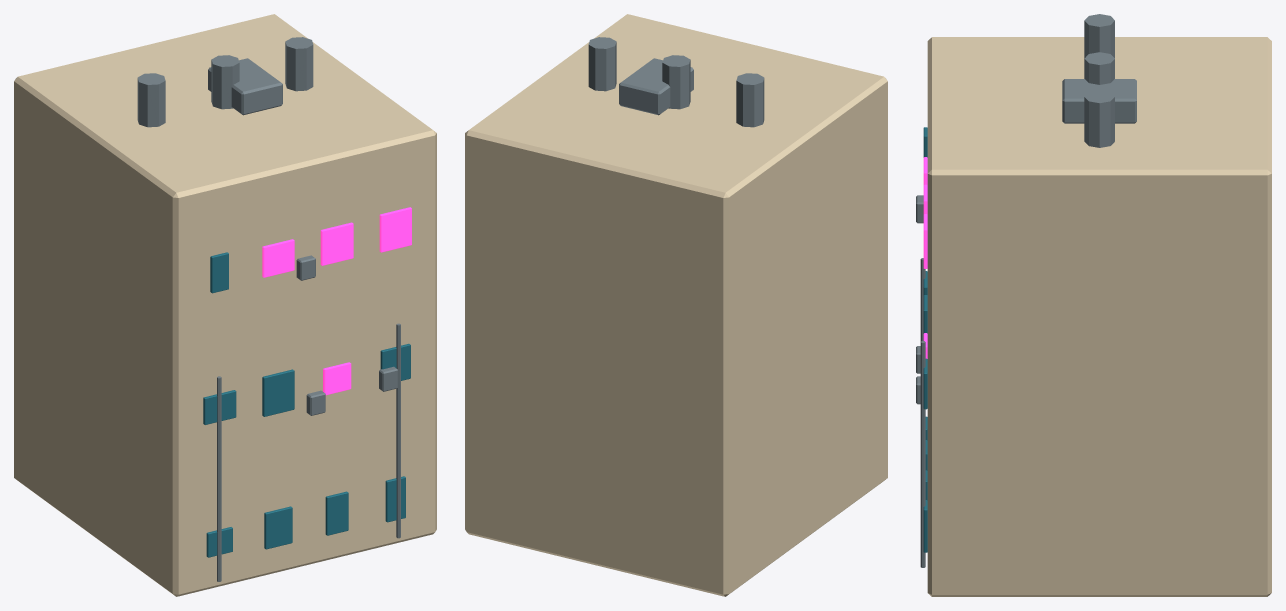
Rendered from building_001_seed100.glb.
3 renders of one model, left to right at view 1: azimuth 30°, elevation 25°; view 2: azimuth 150°, elevation 25°; view 3: azimuth 270°, elevation 25°, orthographic. The views are drawn at different scales.
Parts seen in each view (by area): view 1: building_001_seed100; view 2: building_001_seed100; view 3: building_001_seed100.
Part boxes in pixels (left/top/right/bottom): building_001_seed100: left=14, top=14, right=436, bottom=596; building_001_seed100: left=465, top=14, right=887, bottom=596; building_001_seed100: left=916, top=14, right=1271, bottom=596.
Bounding box in the file's own units: 5.87 × 9.49 × 6.48.
